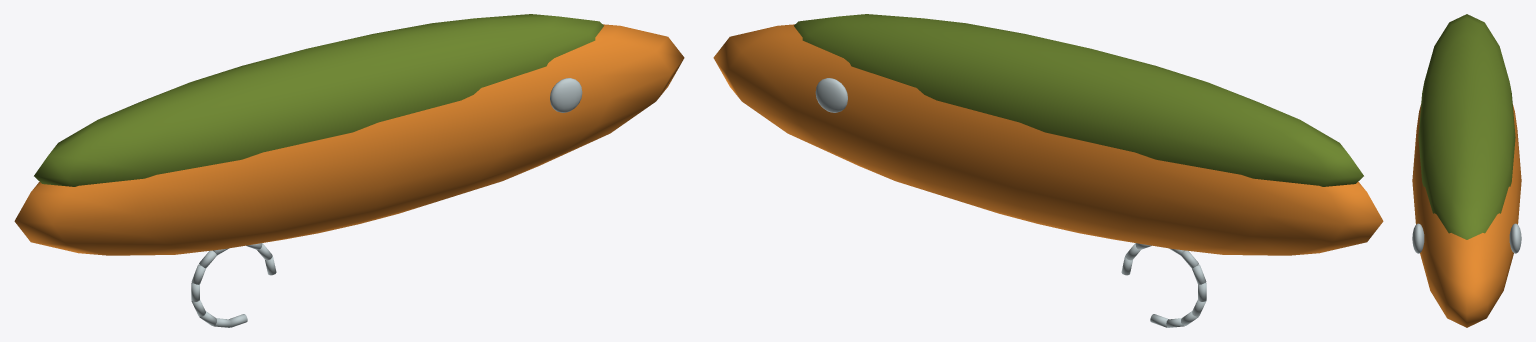
File: SM_Minnow.fbx
The picture shows the model from 3 angles, left to right: view 1: azimuth 30°, elevation 25°; view 2: azimuth 150°, elevation 25°; view 3: azimuth 270°, elevation 25°; orthographic projection. The views are drawn at different scales.
Visible parts, largest first — view 1: SM_Minnow; view 2: SM_Minnow; view 3: SM_Minnow.
Part boxes in pixels (bbox=[...]): SM_Minnow: bbox=[14, 14, 684, 327]; SM_Minnow: bbox=[713, 14, 1383, 327]; SM_Minnow: bbox=[1412, 14, 1521, 327].
Size of the model in its own units: 10.4 by 1.8 by 3.76.
